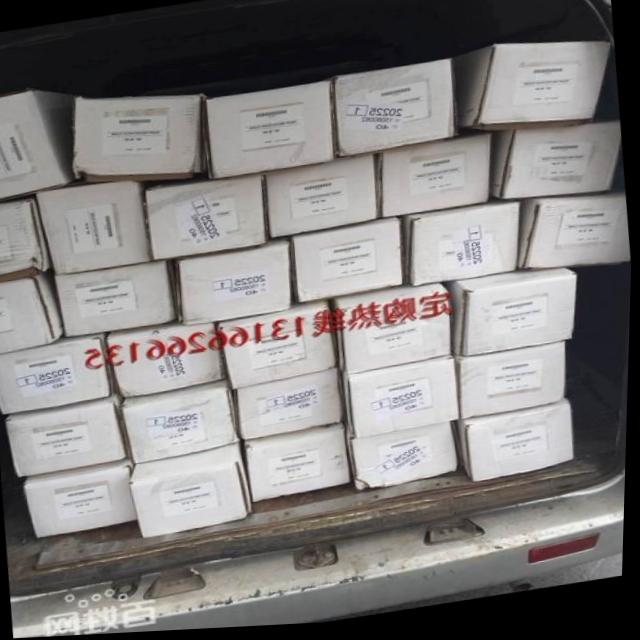box: (453, 47, 613, 138), (207, 84, 336, 181), (73, 96, 209, 183), (333, 64, 457, 158), (134, 445, 258, 539), (452, 272, 578, 362), (221, 302, 341, 394), (36, 182, 151, 275), (147, 176, 270, 262), (335, 286, 453, 375), (404, 205, 523, 293), (489, 126, 622, 203), (289, 219, 408, 305), (179, 237, 291, 328), (266, 157, 380, 241), (0, 335, 117, 416), (463, 405, 578, 487), (127, 383, 239, 466), (345, 362, 461, 442), (517, 195, 632, 275), (7, 401, 129, 476), (379, 140, 491, 221), (56, 262, 174, 338), (106, 324, 226, 398), (29, 459, 139, 538), (456, 348, 568, 423), (246, 425, 351, 505), (0, 89, 73, 200), (237, 371, 345, 443), (348, 428, 460, 494), (0, 275, 64, 354), (0, 199, 51, 281)
